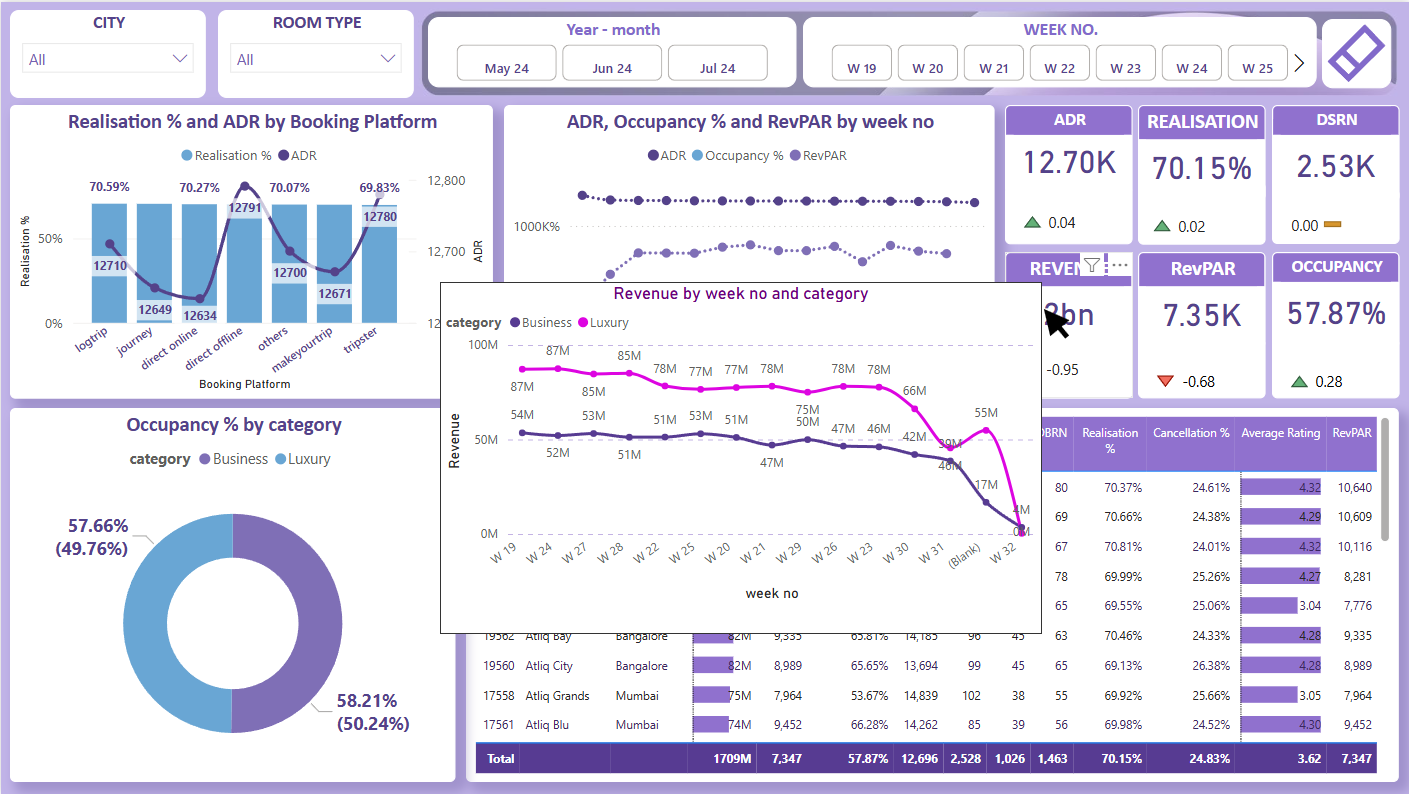

Layout of this report page (visuals, bound fields, positions):
{"tool":"powerbi","page":{"name":"Page 1","canvas":[1280,720],"ordinal":0},"visuals":[{"type":"card","title":"ADR","fields":{"Values":["_Key_Measures.ADR"]},"box":[913,94,116,81],"z":0,"group":"g1"},{"type":"card","title":"DSRN","fields":{"Values":["_Key_Measures.DSRN"]},"box":[1155,94,116,87.7],"z":0,"group":"g2"},{"type":"card","title":"REVENUE","fields":{"Values":["_Key_Measures.Revenue"]},"box":[913,227,116,86.4],"z":0,"group":"g3"},{"type":"card","title":"RevPAR","fields":{"Values":["_Key_Measures.RevPAR"]},"box":[1034,227,116,87],"z":0,"group":"g4"},{"type":"card","title":"OCCUPANCY","fields":{"Values":["_Key_Measures.Occupancy %"]},"box":[1155,227,116,87],"z":0,"group":"g5"},{"type":"tableEx","fields":{"Values":["Dim_Hotels.property_id","Dim_Hotels.property_name","Dim_Hotels.city","_Key_Measures.Revenue","_Key_Measures.RevPAR","_Key_Measures.Occupancy %","_Key_Measures.ADR","_Key_Measures.DSRN","_Key_Measures.DURN","_Key_Measures.DBRN","_Key_Measures.Realisation %","_Key_Measures.Cancellation %"]},"box":[423,369,848,340],"z":0},{"type":"slicer","title":"CITY","fields":{"Values":["Dim_Hotels.city"]},"box":[8,7,178,80],"z":1000},{"type":"card","title":"REALISATION","fields":{"Values":["_Key_Measures.Realisation %"]},"box":[1034,94,115.6,87],"z":1000,"group":"g6"},{"type":"tableEx","fields":{"Values":["_Key_Measures.ADR WoW change %"]},"box":[913.3,168,115.7,53],"z":1000,"group":"g1"},{"type":"tableEx","fields":{"Values":["_Key_Measures.DSRN WoW change %"]},"box":[1155,170.6,116,50.4],"z":1000,"group":"g2"},{"type":"tableEx","fields":{"Values":["_Key_Measures.Revenue WoW change %"]},"box":[913,293.5,116,66.5],"z":1000,"group":"g3"},{"type":"tableEx","fields":{"Values":["_Key_Measures.Revpar WoW change %"]},"box":[1034,306,116,54],"z":1000,"group":"g4"},{"type":"tableEx","fields":{"Values":["_Key_Measures.Occupancy WoW change %"]},"box":[1155,306,116,54],"z":1000,"group":"g5"},{"type":"slicer","title":"ROOM TYPE","fields":{"Values":["Dim_Rooms.room_class"]},"box":[197,7,178,80],"z":2000},{"type":"lineStackedColumnComboChart","fields":{"Category":["fact_bookings.booking_platform"],"Y2":["_Key_Measures.ADR"],"Y":["_Key_Measures.Realisation %"]},"box":[8,94,439,267],"z":2500},{"type":"advancedSlicerVisual","title":"WEEK NO.","fields":{"Values":["Dim_date.week no"]},"box":[729,14,467,64],"z":3000},{"type":"tableEx","fields":{"Values":["_Key_Measures.Realisation WoW change %"]},"box":[1034.4,164,115.6,57],"z":3000,"group":"g6"},{"type":"donutChart","fields":{"Category":["Dim_Hotels.category"],"Y":["_Key_Measures.Occupancy %"]},"box":[8,369,405,340],"z":4000},{"type":"lineChart","fields":{"Y":["_Key_Measures.ADR","_Key_Measures.Occupancy %","_Key_Measures.RevPAR"],"Category":["Dim_date.week no"]},"box":[457,94,446,266],"z":6000},{"type":"actionButton","box":[1201,15,63,63],"z":7000},{"type":"advancedSlicerVisual","title":"Year - month","fields":{"Values":["Dim_date.mmm yy"]},"box":[388,14,335,64],"z":8000},{"type":"group","id":"g1","title":"ADR","box":[913,94,116,127],"z":9000},{"type":"group","id":"g2","title":"DSRN","box":[1155,94,116,127],"z":10000},{"type":"group","id":"g3","title":"REVENUE","box":[913,227,116,133],"z":11000},{"type":"group","id":"g4","title":"Group 1","box":[1034,227,116,133],"z":12000},{"type":"group","id":"g5","title":"Group 2","box":[1155,227,116,133],"z":13000},{"type":"group","id":"g6","title":"Group 3","box":[1034,94,116,127],"z":14000}]}

Visuals, with their boxes in screenshot pixels (x1, y1, x2, y2), scaled from the page's 1280x720 canvas onto the 1409x794 screenshot:
"ADR" card: (x1=1005, y1=104, x2=1133, y2=193)
"DSRN" card: (x1=1271, y1=104, x2=1399, y2=200)
"REVENUE" card: (x1=1005, y1=250, x2=1133, y2=346)
"RevPAR" card: (x1=1138, y1=250, x2=1266, y2=346)
"OCCUPANCY" card: (x1=1271, y1=250, x2=1399, y2=346)
tableEx - Dim_Hotels.property_id x Dim_Hotels.property_name: (x1=466, y1=407, x2=1399, y2=782)
"CITY" slicer: (x1=9, y1=8, x2=205, y2=96)
"REALISATION" card: (x1=1138, y1=104, x2=1265, y2=200)
tableEx - _Key_Measures.ADR WoW change %: (x1=1005, y1=185, x2=1133, y2=244)
tableEx - _Key_Measures.DSRN WoW change %: (x1=1271, y1=188, x2=1399, y2=244)
tableEx - _Key_Measures.Revenue WoW change %: (x1=1005, y1=324, x2=1133, y2=397)
tableEx - _Key_Measures.Revpar WoW change %: (x1=1138, y1=337, x2=1266, y2=397)
tableEx - _Key_Measures.Occupancy WoW change %: (x1=1271, y1=337, x2=1399, y2=397)
"ROOM TYPE" slicer: (x1=217, y1=8, x2=413, y2=96)
lineStackedColumnComboChart - fact_bookings.booking_platform x _Key_Measures.ADR: (x1=9, y1=104, x2=492, y2=398)
"WEEK NO." advancedSlicerVisual: (x1=802, y1=15, x2=1317, y2=86)
tableEx - _Key_Measures.Realisation WoW change %: (x1=1139, y1=181, x2=1266, y2=244)
donutChart - Dim_Hotels.category x _Key_Measures.Occupancy %: (x1=9, y1=407, x2=455, y2=782)
lineChart - _Key_Measures.ADR x _Key_Measures.Occupancy %: (x1=503, y1=104, x2=994, y2=397)
actionButton: (x1=1322, y1=17, x2=1391, y2=86)
"Year - month" advancedSlicerVisual: (x1=427, y1=15, x2=796, y2=86)
"ADR" group: (x1=1005, y1=104, x2=1133, y2=244)
"DSRN" group: (x1=1271, y1=104, x2=1399, y2=244)
"REVENUE" group: (x1=1005, y1=250, x2=1133, y2=397)
"Group 1" group: (x1=1138, y1=250, x2=1266, y2=397)
"Group 2" group: (x1=1271, y1=250, x2=1399, y2=397)
"Group 3" group: (x1=1138, y1=104, x2=1266, y2=244)
